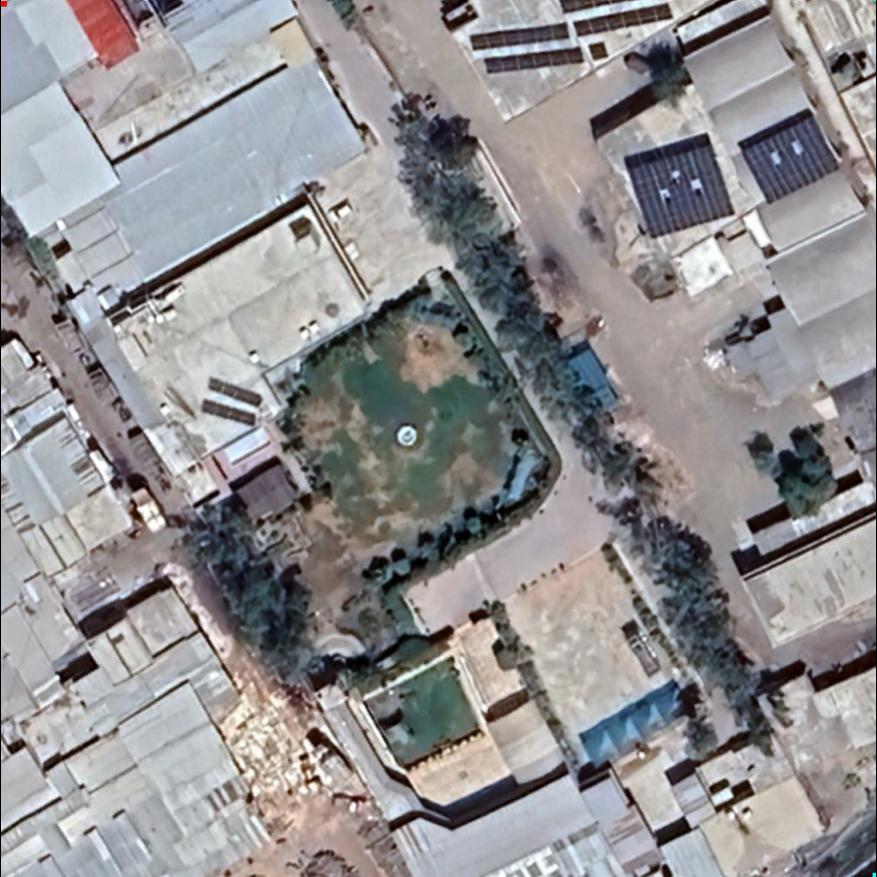Solarpanel: (619, 134, 740, 247), (732, 103, 850, 211), (569, 2, 683, 41), (475, 43, 587, 75), (467, 21, 572, 53), (200, 373, 270, 413), (194, 393, 262, 433), (584, 39, 616, 62)
